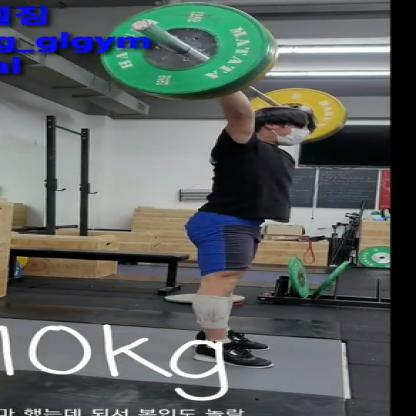Barbell: (90, 2, 293, 102)
